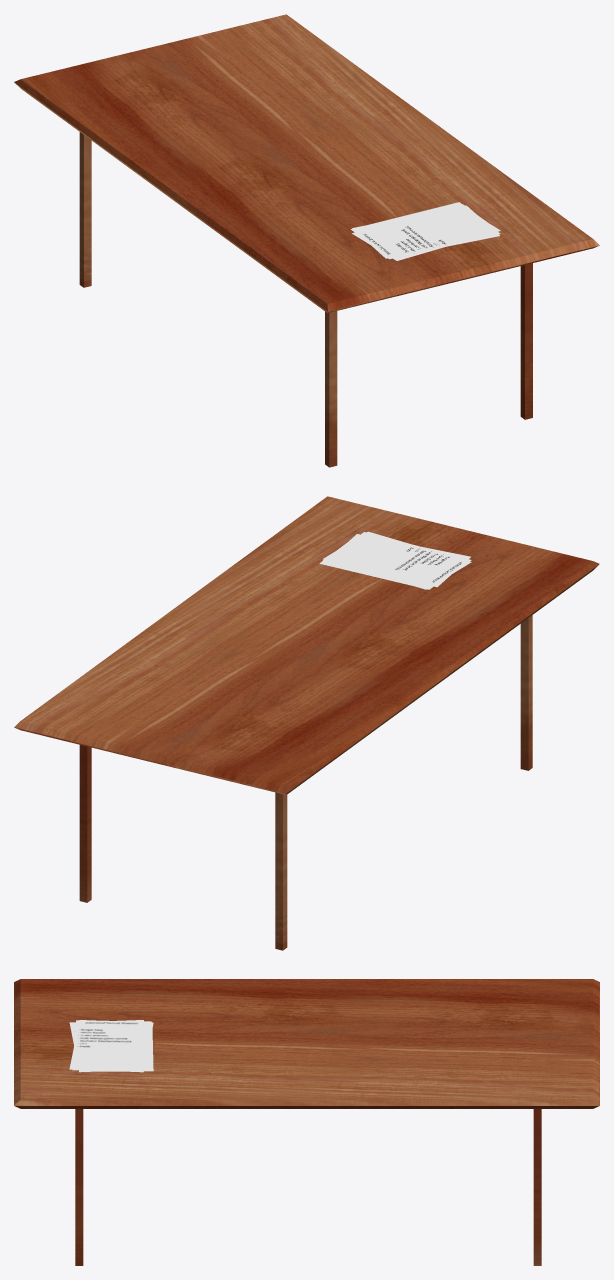
Rendered from blaetter.gltf.
3 views of the same model, one above another, from view 1: azimuth 30°, elevation 25°; view 2: azimuth 150°, elevation 25°; view 3: azimuth 270°, elevation 25° (orthographic). The views are drawn at different scales.
Visible parts, largest first — view 1: Cube, Plane.003; view 2: Cube, Plane.003; view 3: Cube, Plane.003.
Boxes of the visible parts, left/top/right/bottom form: Cube: left=14, top=14, right=599, bottom=467; Plane.003: left=351, top=202, right=500, bottom=260; Cube: left=14, top=496, right=599, bottom=950; Plane.003: left=319, top=531, right=471, bottom=589; Cube: left=14, top=979, right=599, bottom=1265; Plane.003: left=69, top=1020, right=153, bottom=1072.
Bounding box in the file's own units: 3.07 × 2.08 × 6.14.
5 materials, 5 textured.
